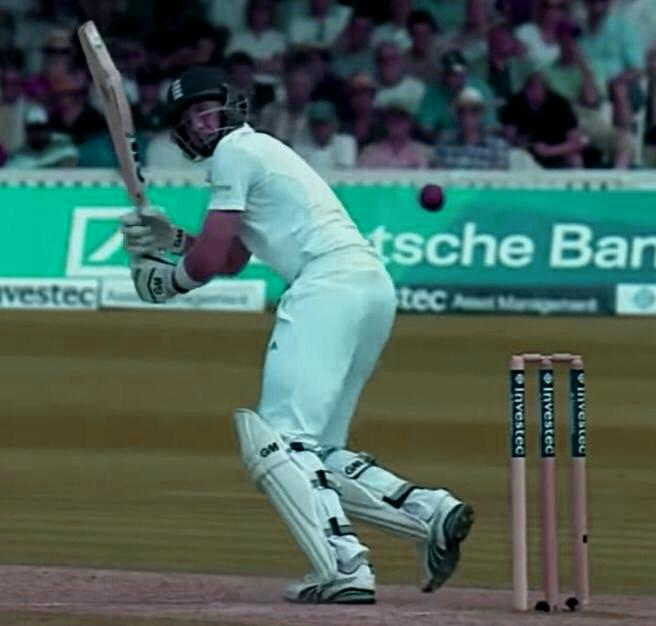batsman: (115, 39, 481, 626)
